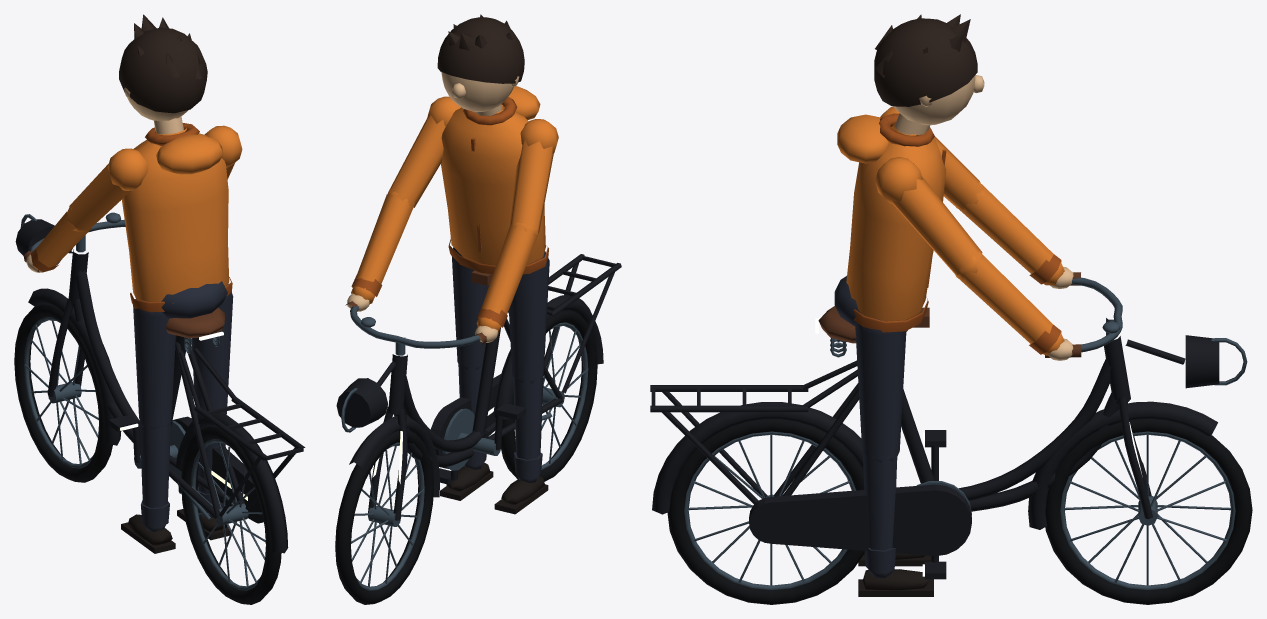
Rendered from rider.glb.
The picture shows the model from 3 angles, left to right: view 1: azimuth 30°, elevation 25°; view 2: azimuth 150°, elevation 25°; view 3: azimuth 270°, elevation 25°; orthographic projection. The views are drawn at different scales.
Visible parts, largest first — view 1: body_mesh, frame_mesh, wheel_f_mesh, wheel_r_mesh, head_mesh, thigh_L_mesh, shin_L_mesh, thigh_R_mesh, foot_L_mesh, crank_mesh, shin_R_mesh, foot_R_mesh; view 2: body_mesh, frame_mesh, wheel_f_mesh, head_mesh, wheel_r_mesh, thigh_L_mesh, shin_L_mesh, thigh_R_mesh, crank_mesh, foot_L_mesh, foot_R_mesh, shin_R_mesh; view 3: frame_mesh, body_mesh, wheel_f_mesh, wheel_r_mesh, head_mesh, thigh_R_mesh, shin_R_mesh, foot_R_mesh.
Part boxes in pixels (x1=…): body_mesh: x1=26, y1=116, x2=242, y2=318; frame_mesh: x1=15, y1=212, x2=305, y2=553; wheel_f_mesh: x1=14, y1=304, x2=112, y2=482; wheel_r_mesh: x1=181, y1=426, x2=281, y2=604; head_mesh: x1=119, y1=14, x2=207, y2=120; thigh_L_mesh: x1=133, y1=299, x2=175, y2=428; shin_L_mesh: x1=139, y1=422, x2=170, y2=531; thigh_R_mesh: x1=191, y1=283, x2=233, y2=413; foot_L_mesh: x1=121, y1=514, x2=175, y2=553; crank_mesh: x1=132, y1=420, x2=185, y2=493; shin_R_mesh: x1=196, y1=411, x2=226, y2=517; foot_R_mesh: x1=177, y1=509, x2=230, y2=540; body_mesh: x1=347, y1=86, x2=558, y2=342; frame_mesh: x1=336, y1=254, x2=621, y2=520; wheel_f_mesh: x1=335, y1=430, x2=433, y2=604; head_mesh: x1=437, y1=14, x2=524, y2=111; wheel_r_mesh: x1=501, y1=310, x2=597, y2=481; thigh_L_mesh: x1=509, y1=251, x2=549, y2=383; shin_L_mesh: x1=513, y1=373, x2=543, y2=482; thigh_R_mesh: x1=452, y1=247, x2=489, y2=369; crank_mesh: x1=442, y1=408, x2=502, y2=480; foot_L_mesh: x1=494, y1=476, x2=548, y2=514; foot_R_mesh: x1=440, y1=462, x2=493, y2=500; shin_R_mesh: x1=458, y1=364, x2=486, y2=469; frame_mesh: x1=650, y1=272, x2=1247, y2=556; body_mesh: x1=834, y1=107, x2=1073, y2=360; wheel_f_mesh: x1=1045, y1=419, x2=1252, y2=604; wheel_r_mesh: x1=667, y1=419, x2=864, y2=604; head_mesh: x1=874, y1=14, x2=984, y2=125; thigh_R_mesh: x1=855, y1=318, x2=906, y2=462; shin_R_mesh: x1=863, y1=452, x2=898, y2=577; foot_R_mesh: x1=858, y1=569, x2=933, y2=596.
Size of the model in its own units: 0.6581 by 2.13 by 1.98.
